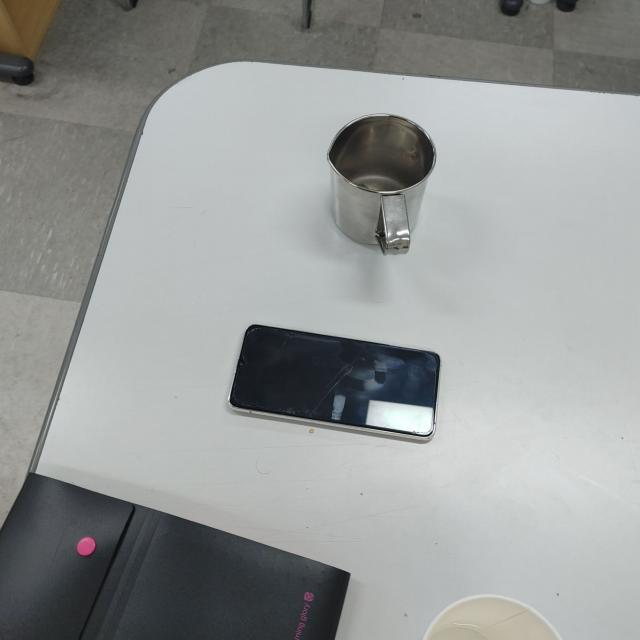cup: (326, 112, 436, 258)
phone: (229, 323, 442, 445)
